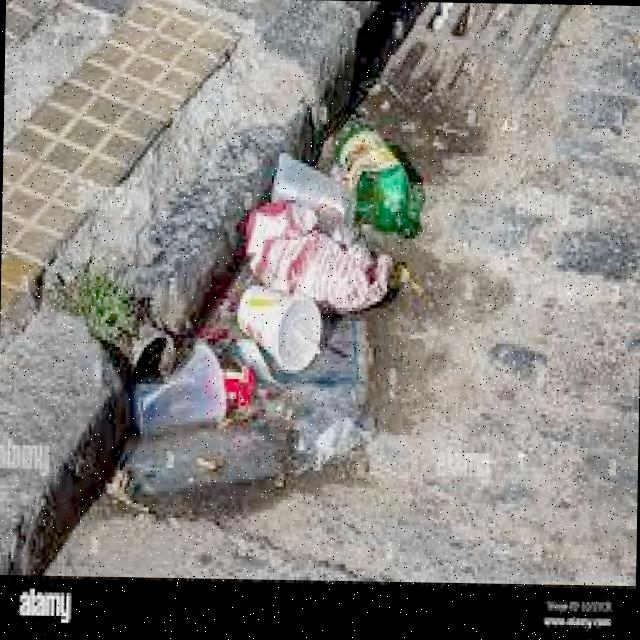curb: (1, 1, 432, 581)
